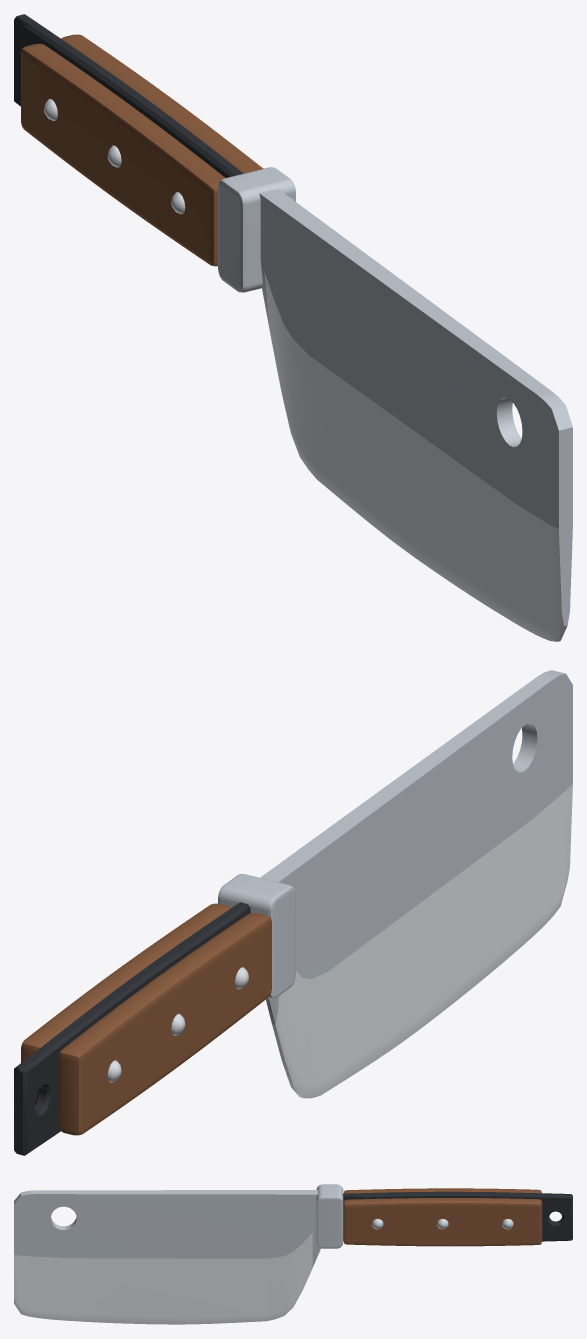
The model's file is w_knife@knife_cleaver.glb.
3 views of the same model, one above another, from view 1: azimuth 30°, elevation 25°; view 2: azimuth 150°, elevation 25°; view 3: azimuth 270°, elevation 25° (orthographic). The views are drawn at different scales.
Visible parts, largest first — view 1: blade_wzB__steel__pc3cad3, blade_wzB__edge__peef1f5, scale_wzA__wood__p8a5b3c, bolster_wzB__steel__pc3cad3, tang_wzA__dark__p2f3238; view 2: blade_wzB__steel__pc3cad3, blade_wzB__edge__peef1f5, scale_wzA__wood__p8a5b3c, tang_wzA__dark__p2f3238, bolster_wzB__steel__pc3cad3, rivet_wzN__rivet__pd5dae0; view 3: blade_wzB__steel__pc3cad3, blade_wzB__edge__peef1f5, scale_wzA__wood__p8a5b3c, tang_wzA__dark__p2f3238, bolster_wzB__steel__pc3cad3, rivet_wzN__rivet__pd5dae0.
Part boxes in pixels (box(x1,y1,x2,y2)): blade_wzB__steel__pc3cad3: box(259, 188, 572, 626); blade_wzB__edge__peef1f5: box(264, 271, 567, 641); scale_wzA__wood__p8a5b3c: box(21, 34, 263, 266); bolster_wzB__steel__pc3cad3: box(218, 167, 295, 292); tang_wzA__dark__p2f3238: box(14, 14, 243, 177); blade_wzB__steel__pc3cad3: box(260, 670, 572, 1024); blade_wzB__edge__peef1f5: box(272, 784, 572, 1098); scale_wzA__wood__p8a5b3c: box(21, 903, 271, 1135); tang_wzA__dark__p2f3238: box(14, 902, 250, 1155); bolster_wzB__steel__pc3cad3: box(218, 874, 295, 999); rivet_wzN__rivet__pd5dae0: box(107, 967, 248, 1082); blade_wzB__steel__pc3cad3: box(14, 1190, 320, 1267); blade_wzB__edge__peef1f5: box(14, 1233, 312, 1324); scale_wzA__wood__p8a5b3c: box(343, 1188, 542, 1246); tang_wzA__dark__p2f3238: box(343, 1191, 572, 1241); bolster_wzB__steel__pc3cad3: box(316, 1184, 343, 1248); rivet_wzN__rivet__pd5dae0: box(372, 1218, 513, 1229).
Bounding box in the file's own units: 0.023 × 0.077 × 0.292.
